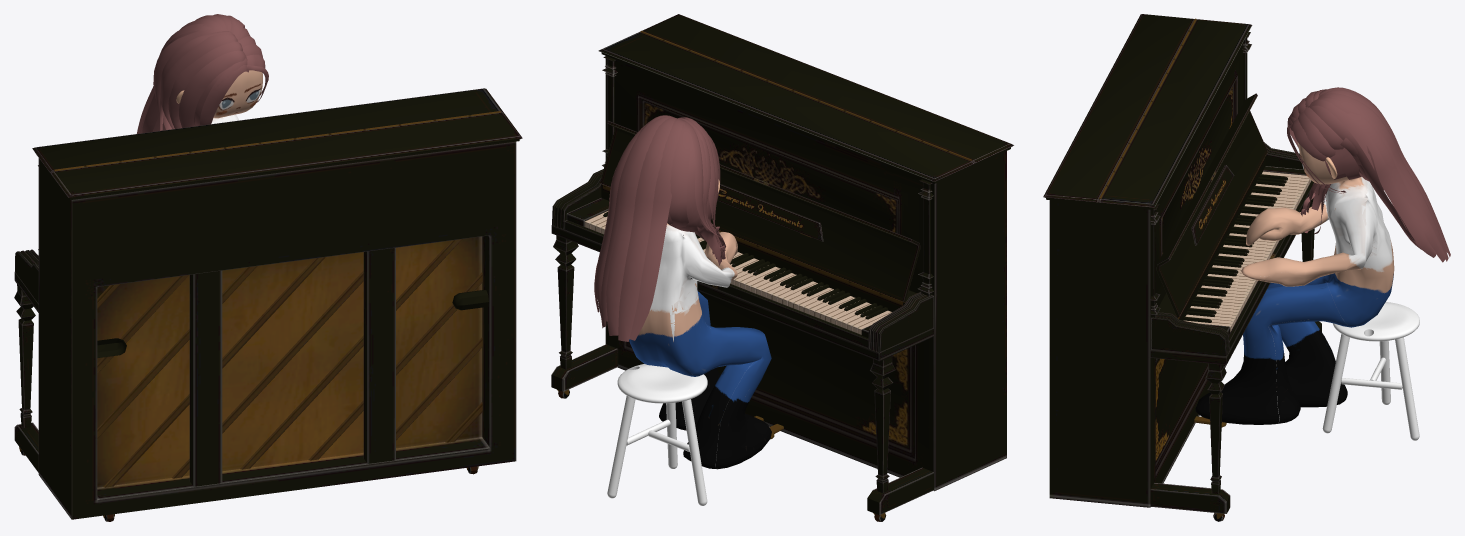
File: Personaje3_draco.glb
3 views of the same model, side by side, from view 1: azimuth 30°, elevation 25°; view 2: azimuth 150°, elevation 25°; view 3: azimuth 270°, elevation 25° (orthographic). The views are drawn at different scales.
Visible parts, largest first — view 1: Object_0, orejas-RS Standard_1 (×6), orejas-Nodo; view 2: Object_0, orejas-Nodo, orejas-RS Standard_1 (×10), ESTRUTURA, Group16; view 3: Object_0, orejas-Nodo, orejas-RS Standard_1 (×10), ESTRUTURA, Group16.
Boxes of the visible parts, x1,y1,x2,y2 form: Object_0: (14, 88, 522, 521); orejas-RS Standard_1 (×6): (153, 28, 247, 130); orejas-Nodo: (211, 70, 262, 124); Object_0: (551, 14, 1013, 521); orejas-Nodo: (629, 223, 771, 469); orejas-RS Standard_1 (×10): (594, 115, 724, 341); ESTRUTURA: (607, 396, 707, 505); Group16: (617, 364, 707, 403); Object_0: (1043, 14, 1321, 521); orejas-Nodo: (1195, 142, 1394, 424); orejas-RS Standard_1 (×10): (1292, 90, 1450, 262); ESTRUTURA: (1322, 334, 1419, 440); Group16: (1333, 302, 1419, 341).
Size of the model in its own units: 3.64 by 3.02 by 3.17.
Materials: 10 (2 with a texture image).
